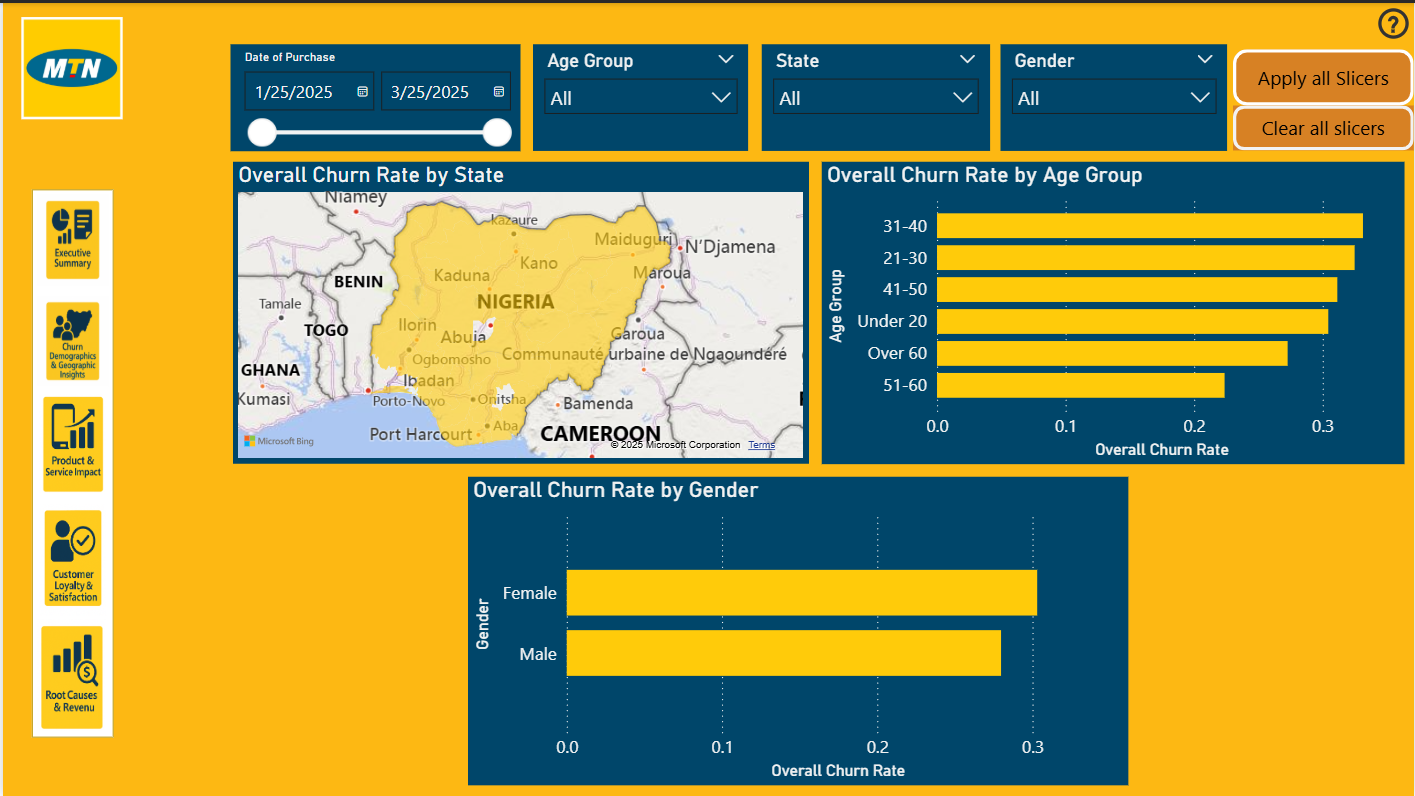

The dashboard page shown, as its layout file describes it:
{"tool":"powerbi","page":{"name":"Churn Demographics & Geographic Insights","canvas":[1280,720],"ordinal":1},"visuals":[{"type":"barChart","fields":{"Category":["MTN Nigeria Customer Churn.Age Group"],"Y":["MTN Nigeria Customer Churn.Overall Churn Rate"]},"box":[743,144.2,529.1,274.4],"z":0},{"type":"filledMap","fields":{"Category":["MTN Nigeria Customer Churn.State"]},"box":[208.1,144.2,522.1,273.3],"z":1000},{"type":"clusteredBarChart","fields":{"Category":["MTN Nigeria Customer Churn.Gender","MTN Nigeria Customer Churn.Age Group"],"Y":["MTN Nigeria Customer Churn.Overall Churn Rate"]},"box":[422.1,430.2,598.8,280.2],"z":2000},{"type":"slicer","fields":{"Values":["MTN Nigeria Customer Churn.Date of Purchase"]},"box":[207,37.2,262.8,96.5],"z":3000},{"type":"slicer","fields":{"Values":["MTN Nigeria Customer Churn.State"]},"box":[688.4,37.2,207,96.5],"z":4000},{"type":"slicer","fields":{"Values":["MTN Nigeria Customer Churn.Age Group"]},"box":[481.4,37.2,195.3,96.5],"z":5000},{"type":"slicer","fields":{"Values":["MTN Nigeria Customer Churn.Gender"]},"box":[904.7,37.2,205.8,96.5],"z":6000},{"type":"actionButton","box":[1243,0,37.2,37.2],"z":7000},{"type":"shape","box":[25.6,168.6,74.4,497.7],"z":8000},{"type":"image","box":[25.6,168.6,74.4,91.9],"z":9000},{"type":"image","box":[25.6,260.5,74.4,91.9],"z":10000},{"type":"image","box":[25.6,448.8,74.4,111.6],"z":11000},{"type":"image","box":[9.3,554.7,105.8,111.6],"z":12000},{"type":"image","box":[25.6,348.8,74.4,100],"z":13000},{"type":"image","box":[10.5,8.1,104.7,102.3],"z":14000},{"type":"actionButton","box":[1116,93,164,40.7],"z":15000},{"type":"shape","box":[1116,41.9,164,51.2],"z":16000}]}

Visuals, with their boxes in screenshot pixels (x1, y1, x2, y2), scaled from the page's 1280x720 canvas onto the 1415x796 screenshot:
barChart - MTN Nigeria Customer Churn.Age Group x MTN Nigeria Customer Churn.Overall Churn Rate: box(821, 159, 1406, 463)
filledMap - MTN Nigeria Customer Churn.State: box(230, 159, 807, 462)
clusteredBarChart - MTN Nigeria Customer Churn.Gender x MTN Nigeria Customer Churn.Age Group: box(467, 476, 1129, 785)
slicer - MTN Nigeria Customer Churn.Date of Purchase: box(229, 41, 519, 148)
slicer - MTN Nigeria Customer Churn.State: box(761, 41, 990, 148)
slicer - MTN Nigeria Customer Churn.Age Group: box(532, 41, 748, 148)
slicer - MTN Nigeria Customer Churn.Gender: box(1000, 41, 1228, 148)
actionButton: box(1374, 0, 1414, 41)
shape: box(28, 186, 111, 737)
image: box(28, 186, 111, 288)
image: box(28, 288, 111, 390)
image: box(28, 496, 111, 620)
image: box(10, 613, 127, 737)
image: box(28, 386, 111, 496)
image: box(12, 9, 127, 122)
actionButton: box(1234, 103, 1414, 148)
shape: box(1234, 46, 1414, 103)
